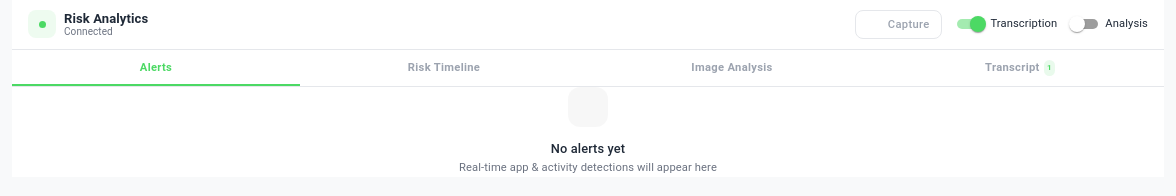
it: AnalyticsPanel › fragments with a missing speaker_role default to the candidate side
Click the tab "Transcript 1" at (1020,68), box [876, 50, 1164, 86]
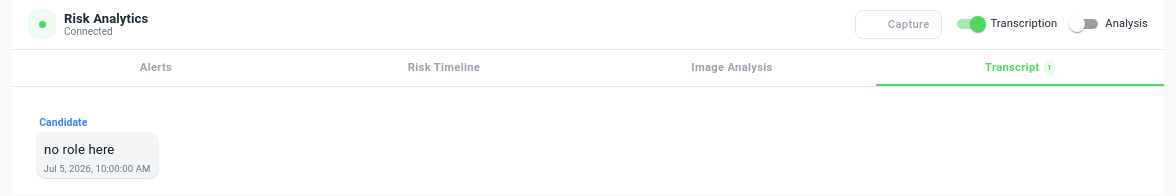
Expected: the text "Candidate" is shown, [36, 115, 91, 130]
Expected: the text "no role here" is shown, [44, 142, 114, 157]
